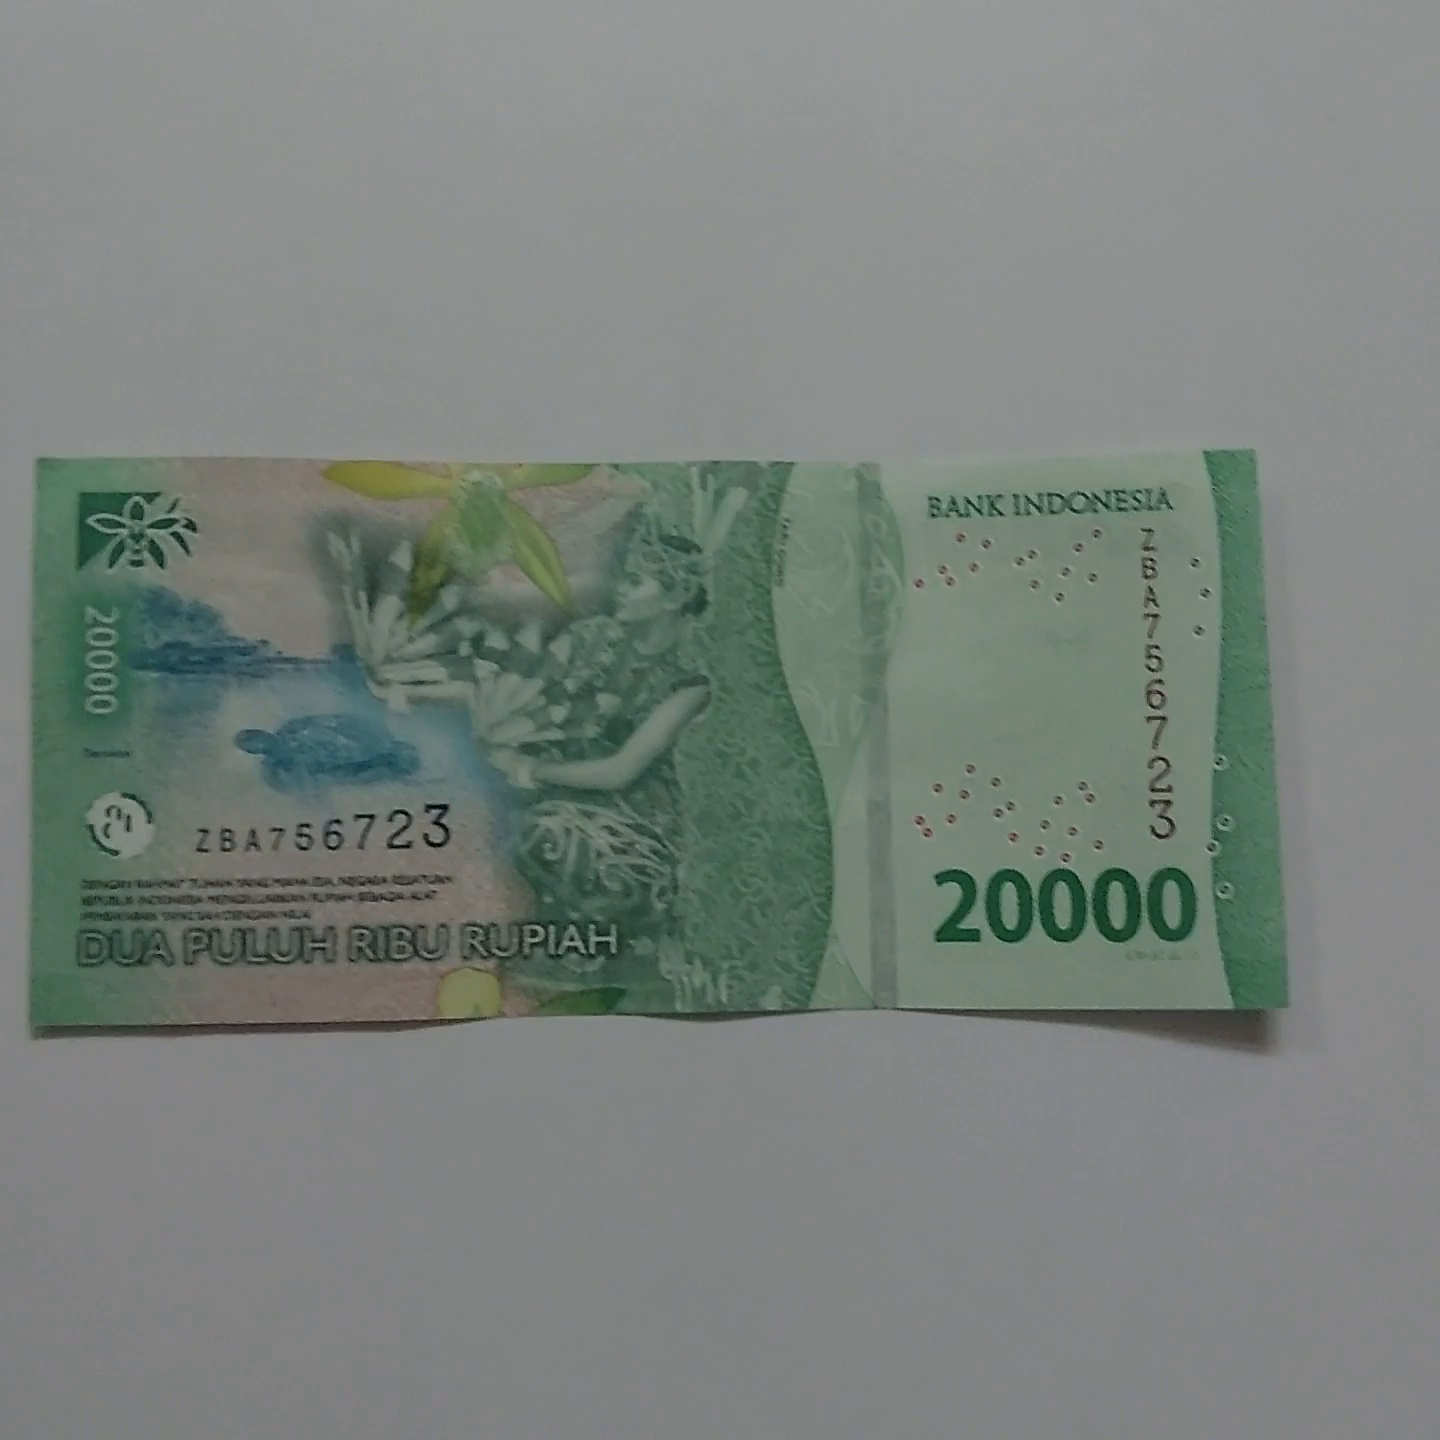20k: (21, 447, 1321, 1017)
